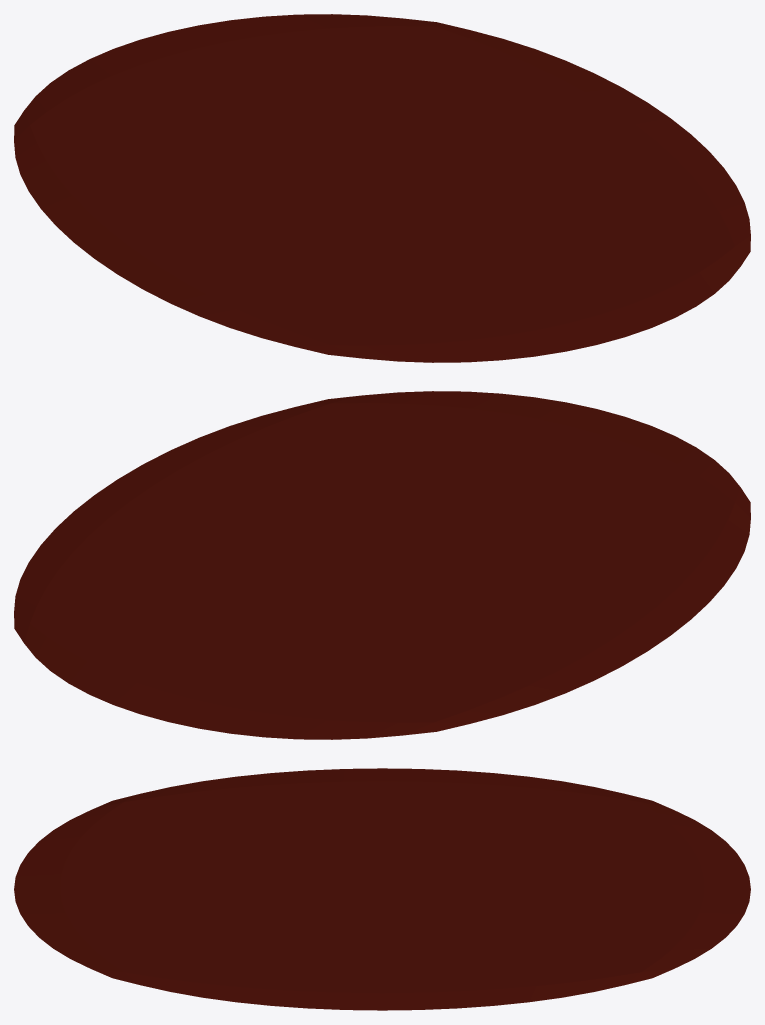
Rendered from Rug_Oval.fbx.
The picture shows the model from 3 angles, top to bottom: view 1: azimuth 30°, elevation 25°; view 2: azimuth 150°, elevation 25°; view 3: azimuth 270°, elevation 25°; orthographic projection. The views are drawn at different scales.
Parts seen in each view (by area): view 1: Plane; view 2: Plane; view 3: Plane.
Part boxes in pixels (left/top/right/bottom): Plane: left=14, top=14, right=750, bottom=362; Plane: left=14, top=391, right=750, bottom=739; Plane: left=14, top=768, right=750, bottom=1010.
Bounding box in the file's own units: 183 × 0.7908 × 236.
